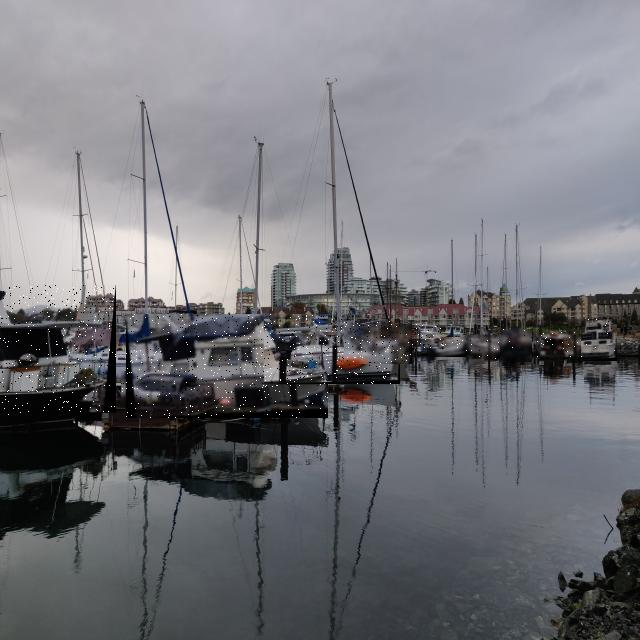boat: (126, 314, 328, 418), (0, 286, 116, 416), (264, 319, 400, 384), (344, 324, 412, 364), (582, 319, 620, 361), (500, 329, 532, 364), (536, 332, 580, 357), (410, 322, 444, 349), (466, 335, 502, 359), (427, 337, 467, 357)
skiff: (121, 371, 191, 407)
